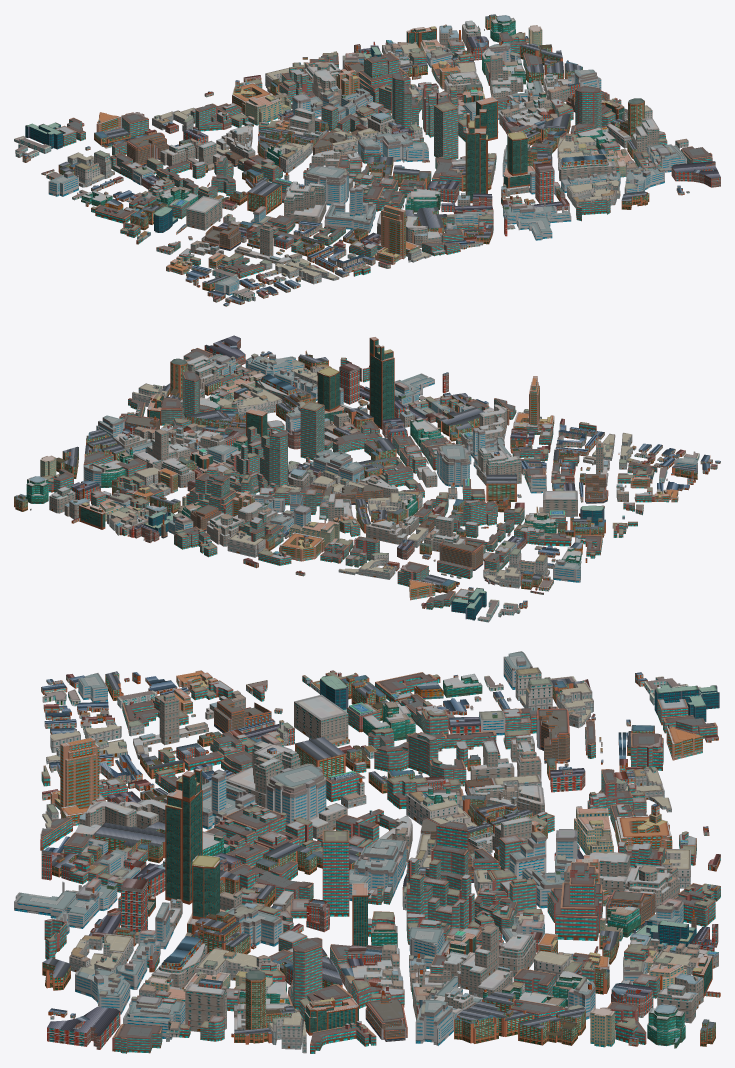
File: Buildings_7_20223323222133_buildings_01_INDEX0.fbx
The picture shows the model from 3 angles, top to bottom: view 1: azimuth 30°, elevation 25°; view 2: azimuth 150°, elevation 25°; view 3: azimuth 270°, elevation 25°; orthographic projection. The views are drawn at different scales.
Parts seen in each view (by area): view 1: Buildings_7_20223323222133_buildings_01_INDEX0; view 2: Buildings_7_20223323222133_buildings_01_INDEX0; view 3: Buildings_7_20223323222133_buildings_01_INDEX0.
Boxes of the visible parts, box(x1,y1,x2,y2) form: Buildings_7_20223323222133_buildings_01_INDEX0: box(14, 14, 720, 306); Buildings_7_20223323222133_buildings_01_INDEX0: box(14, 335, 720, 622); Buildings_7_20223323222133_buildings_01_INDEX0: box(14, 651, 720, 1053).
Size of the model in its own units: 129099 by 21056 by 100583.
